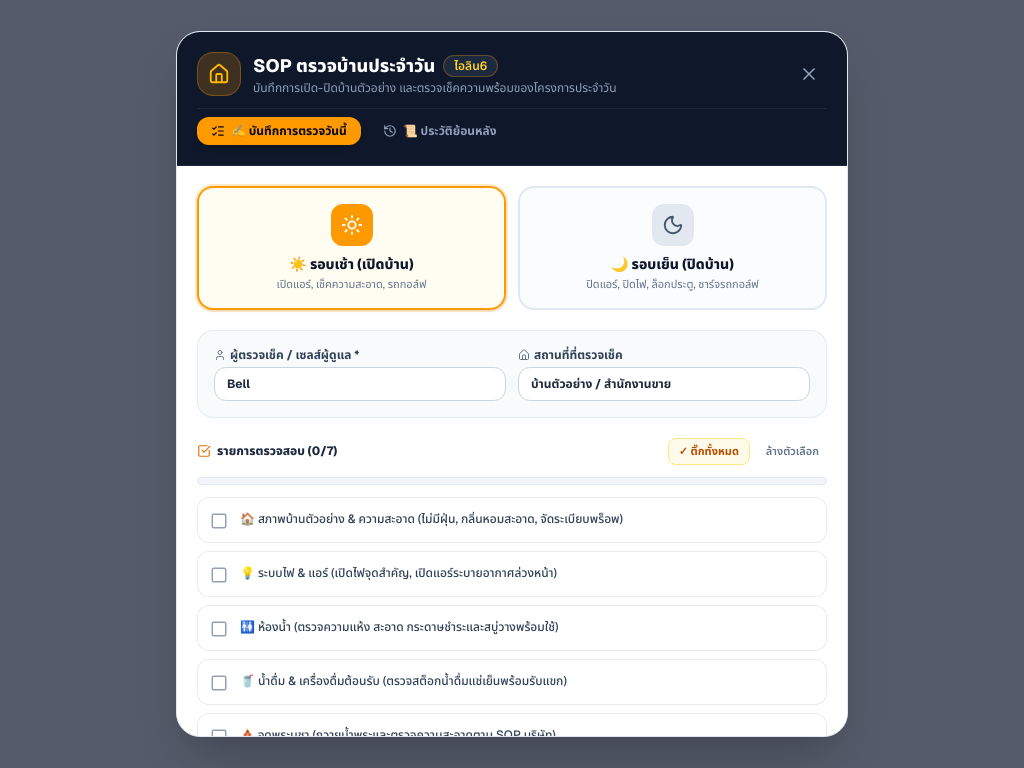
DailyHouseInspectionModal › allows viewing inspection history logs
The image size is (1024, 768).
Click the button "📜 ประวัติย้อนหลัง" at (440, 131), box [369,117,510,145]
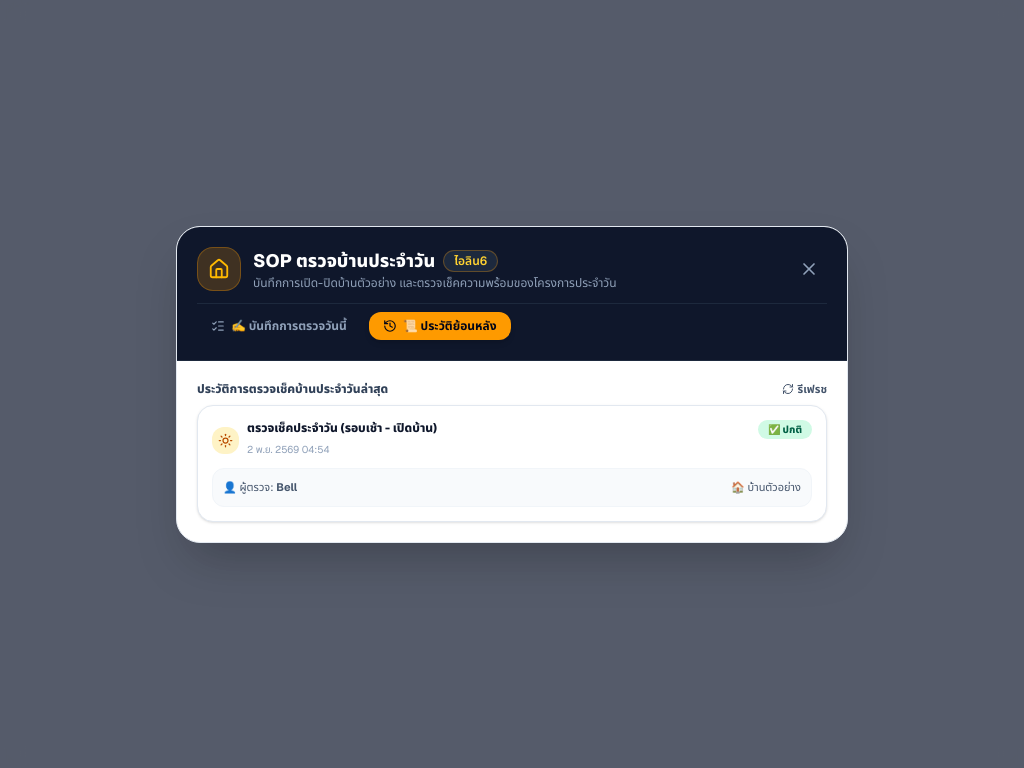
Check: the heading "ตรวจเช็คประจำวัน (รอบเช้า - เปิดบ้าน)" is shown, box [247,420,437,436]
